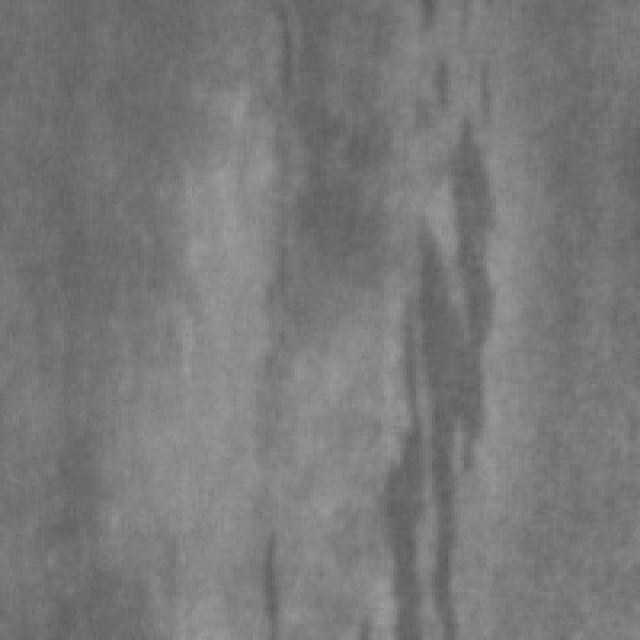inclusion: (339, 48, 506, 630), (250, 12, 378, 426), (246, 518, 292, 630)
